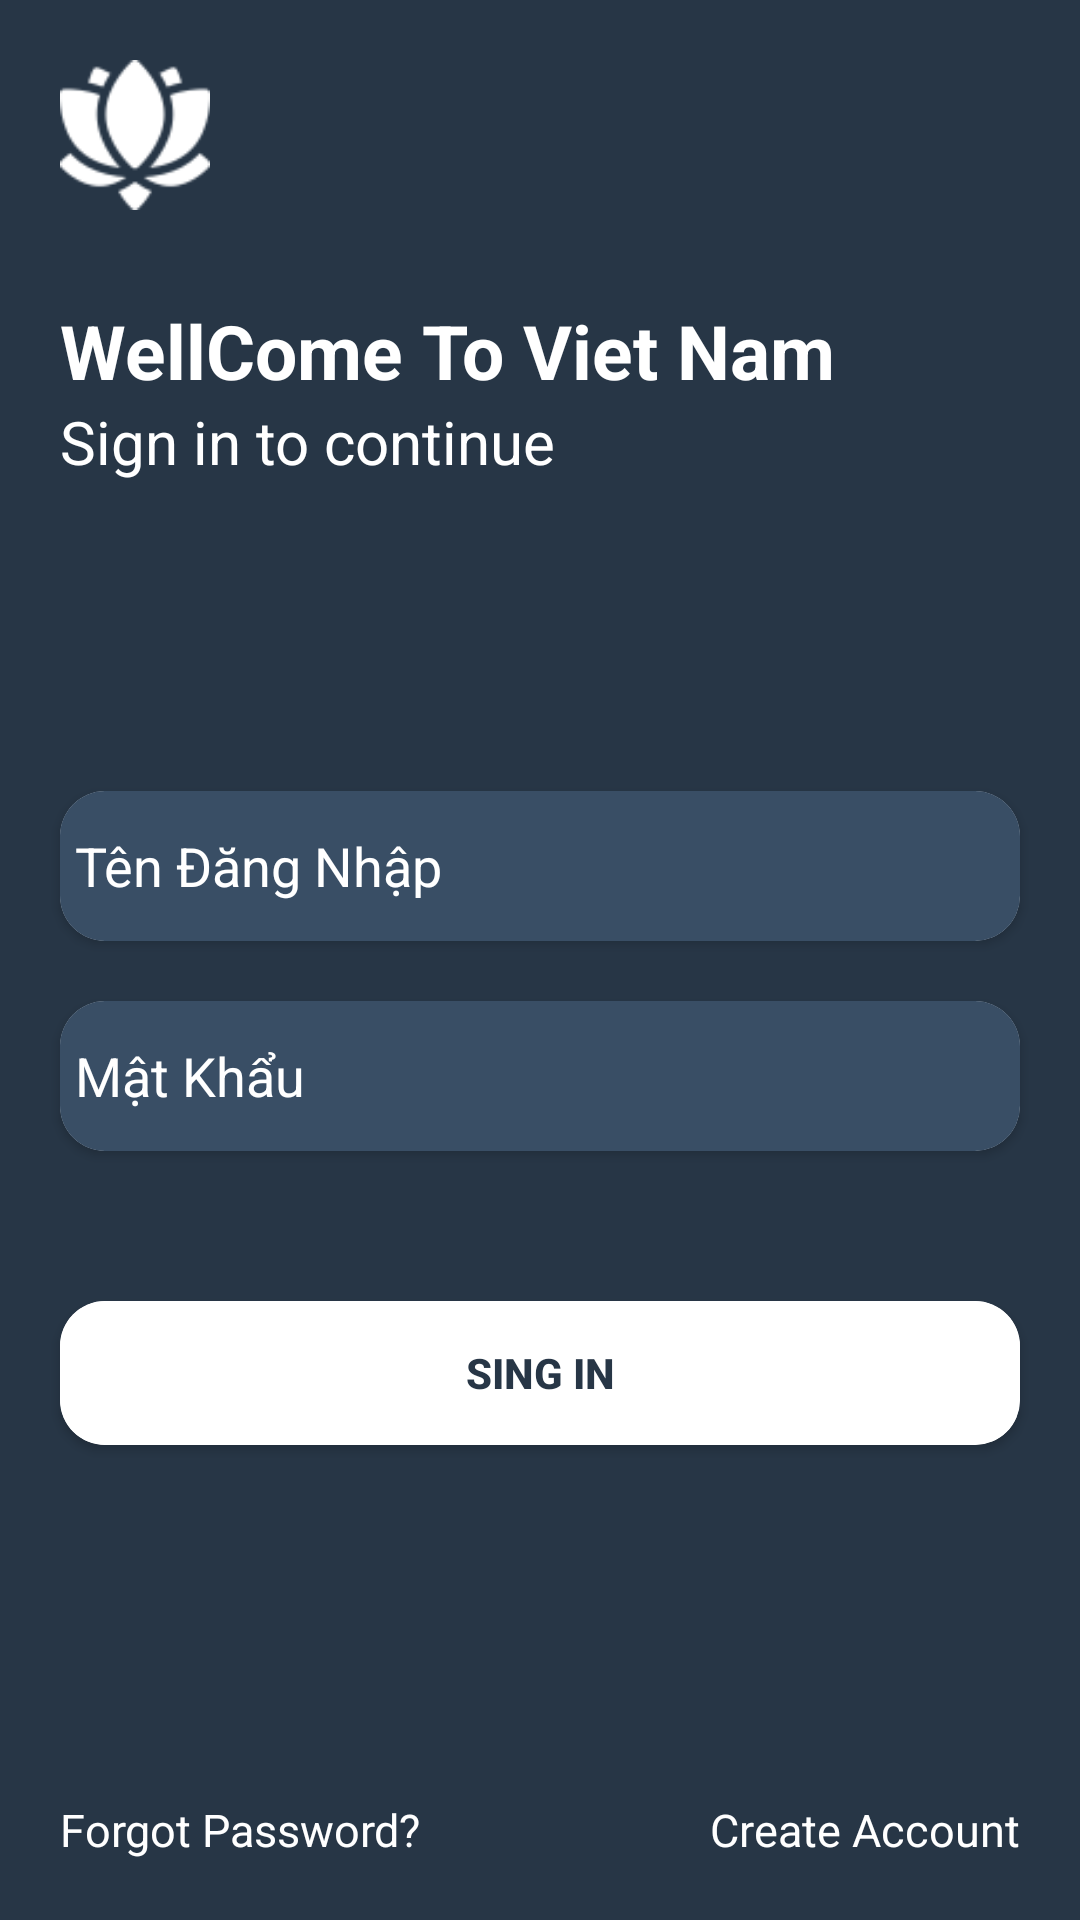

Where icons sit on this 1080px x 1920px app screen, as (left=x1, top=y1, right=x2, bottom=y2):
lotus: (left=60, top=60, right=210, bottom=210)
